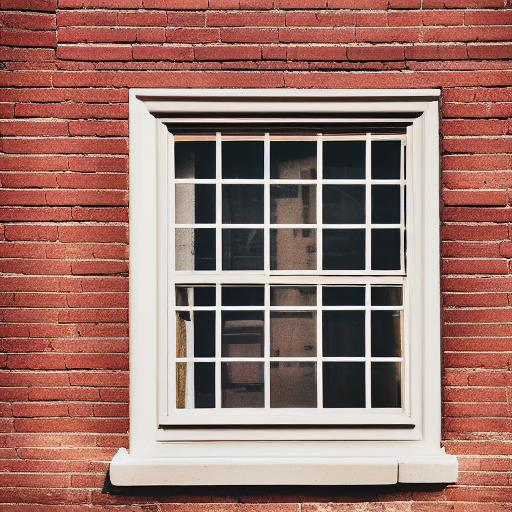Window: (110, 88, 463, 491)
